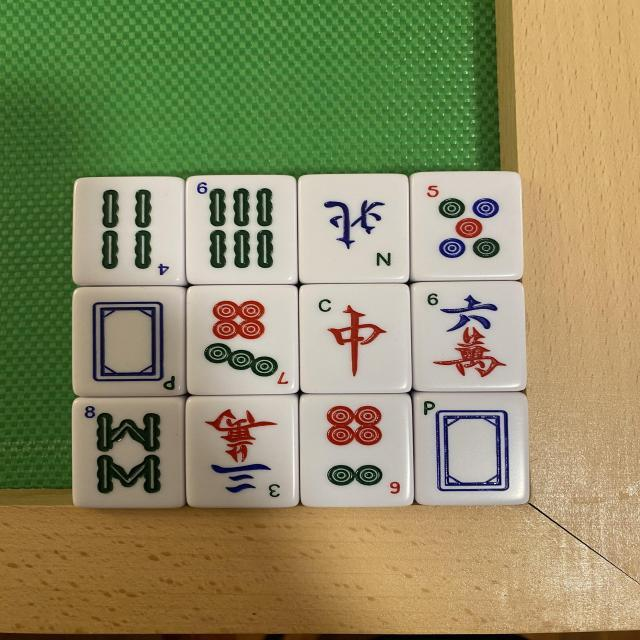hdr: (299, 286, 412, 396)
hdw: (410, 390, 526, 500), (75, 292, 186, 400)
hwn: (300, 174, 410, 282)
sb4: (74, 177, 186, 286)
sb6: (182, 180, 292, 286)
sb8: (74, 396, 187, 506)
sc3: (183, 394, 295, 508)
sc6: (414, 284, 528, 394)
sd5: (408, 176, 518, 284)
sd6: (300, 394, 412, 507)
sd7: (191, 282, 300, 393)
